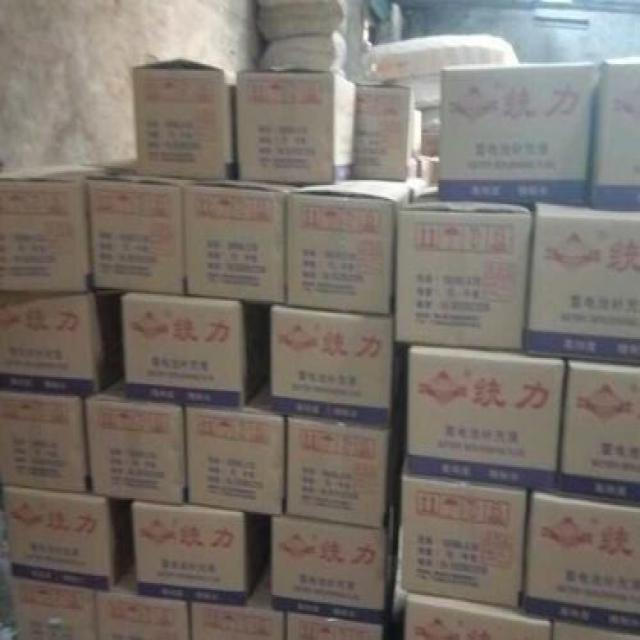box: (401, 331, 560, 488), (432, 60, 590, 207), (392, 196, 530, 361), (393, 463, 531, 617), (521, 190, 640, 368), (115, 276, 262, 416), (521, 479, 640, 634), (284, 174, 409, 320), (264, 292, 396, 427), (228, 60, 359, 193), (0, 472, 139, 594), (129, 492, 271, 610), (262, 507, 399, 622), (0, 281, 123, 405), (0, 168, 105, 306), (277, 411, 401, 526), (125, 52, 235, 180), (85, 380, 192, 504), (185, 176, 285, 308), (562, 347, 640, 512), (180, 403, 290, 518), (94, 174, 192, 300), (0, 379, 95, 492), (354, 76, 426, 190)
